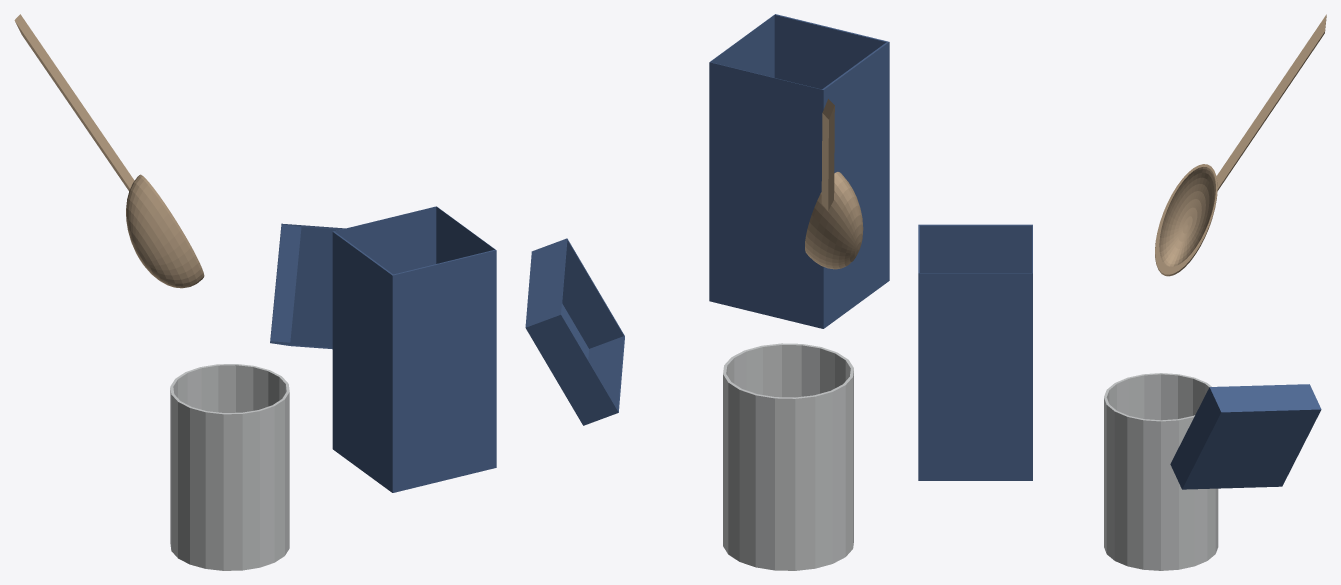
File: coffee_scene.glb
3 renders of one model, left to right at view 1: azimuth 30°, elevation 25°; view 2: azimuth 150°, elevation 25°; view 3: azimuth 270°, elevation 25°, orthographic. The views are drawn at different scales.
Parts seen in each view (by area): view 1: Mesh_Mesh_head_geo.001_lambert2SG.001; view 2: Mesh_Mesh_head_geo.001_lambert2SG.001; view 3: Mesh_Mesh_head_geo.001_lambert2SG.001.
Boxes of the visible parts, bbox=[...] form: Mesh_Mesh_head_geo.001_lambert2SG.001: bbox=[14, 14, 496, 570]; Mesh_Mesh_head_geo.001_lambert2SG.001: bbox=[525, 14, 889, 570]; Mesh_Mesh_head_geo.001_lambert2SG.001: bbox=[918, 14, 1326, 570].
Bounding box in the file's own units: 159 × 229 × 178.
